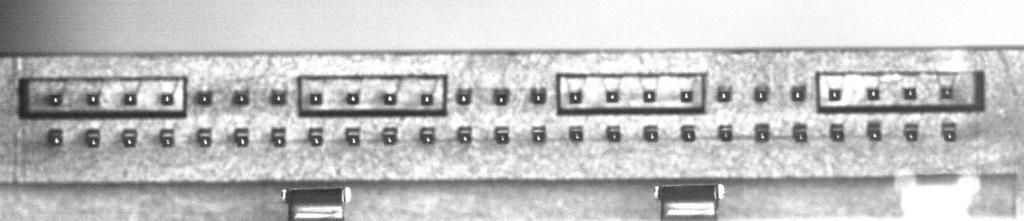pin_ok: (941, 122, 958, 142), (829, 122, 846, 142), (233, 127, 250, 147), (903, 122, 920, 142), (84, 128, 101, 148), (866, 120, 883, 140), (121, 128, 138, 147), (456, 87, 473, 105), (530, 86, 547, 104), (419, 126, 436, 144), (232, 88, 250, 105), (493, 87, 510, 105), (344, 127, 361, 145), (47, 128, 64, 146), (270, 127, 286, 146), (159, 128, 175, 147), (196, 128, 212, 147), (382, 126, 398, 145), (308, 127, 324, 146), (270, 88, 287, 105), (195, 89, 212, 106), (605, 125, 622, 142), (790, 85, 807, 102), (717, 123, 733, 141), (643, 124, 659, 142), (456, 126, 472, 144), (494, 126, 510, 144), (793, 123, 808, 142), (716, 85, 732, 102), (755, 124, 770, 142), (531, 125, 546, 143), (753, 86, 769, 102), (681, 125, 696, 142), (569, 125, 584, 141), (940, 85, 954, 100), (86, 92, 100, 106), (568, 90, 582, 104), (420, 92, 434, 106), (902, 86, 917, 99), (48, 93, 63, 106), (827, 88, 842, 101), (160, 92, 175, 105), (605, 89, 620, 102), (866, 87, 880, 100), (680, 89, 693, 103), (346, 92, 359, 105), (309, 92, 322, 105), (643, 89, 656, 102), (124, 92, 137, 105), (384, 92, 397, 105)
